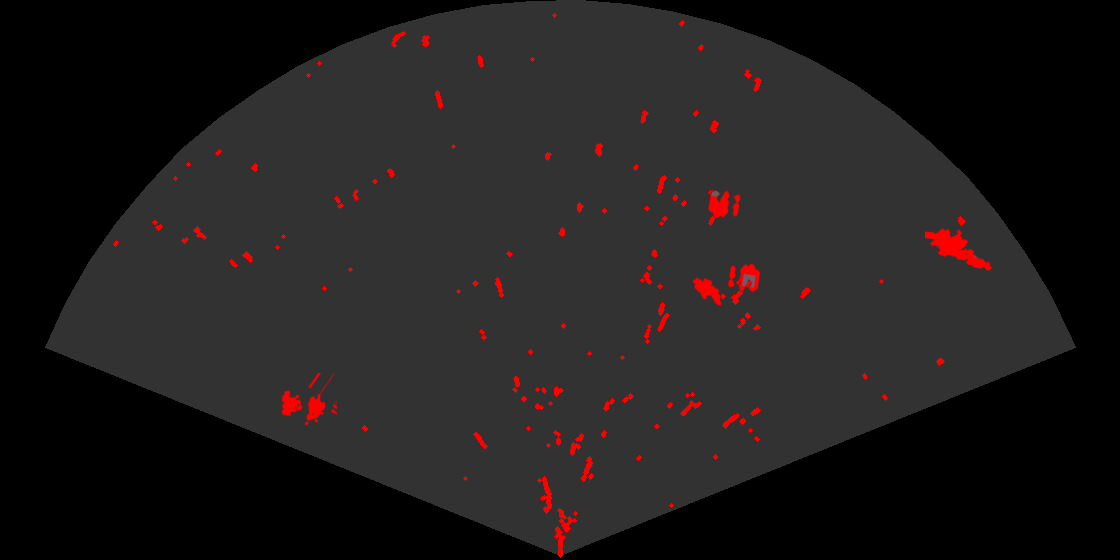AUV: (691, 276, 723, 308)
ball: (726, 262, 762, 294), (707, 189, 742, 220)
cage: (280, 373, 337, 427)
frogman: (925, 227, 994, 272)
